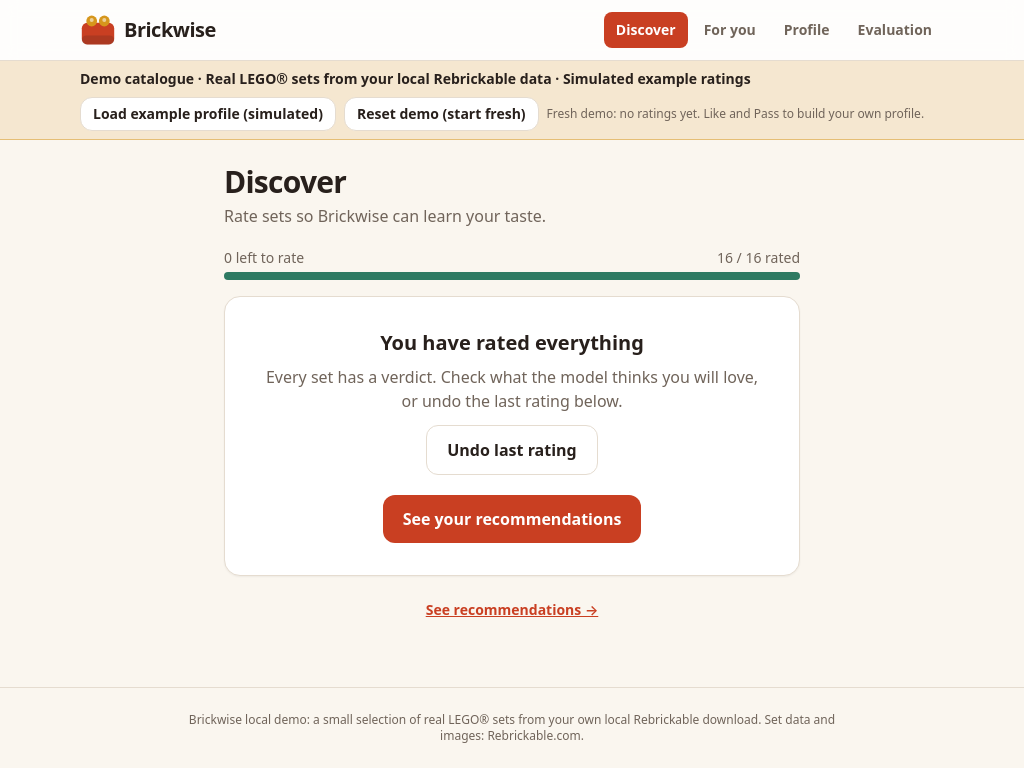
demo mode on, real local catalogue › describes the example profile as simulated and sizes the evaluation note from the server
The image size is (1024, 768).
Click the button "Load example profile (simulated)" at (208,114), box 80,97 -> 336,131
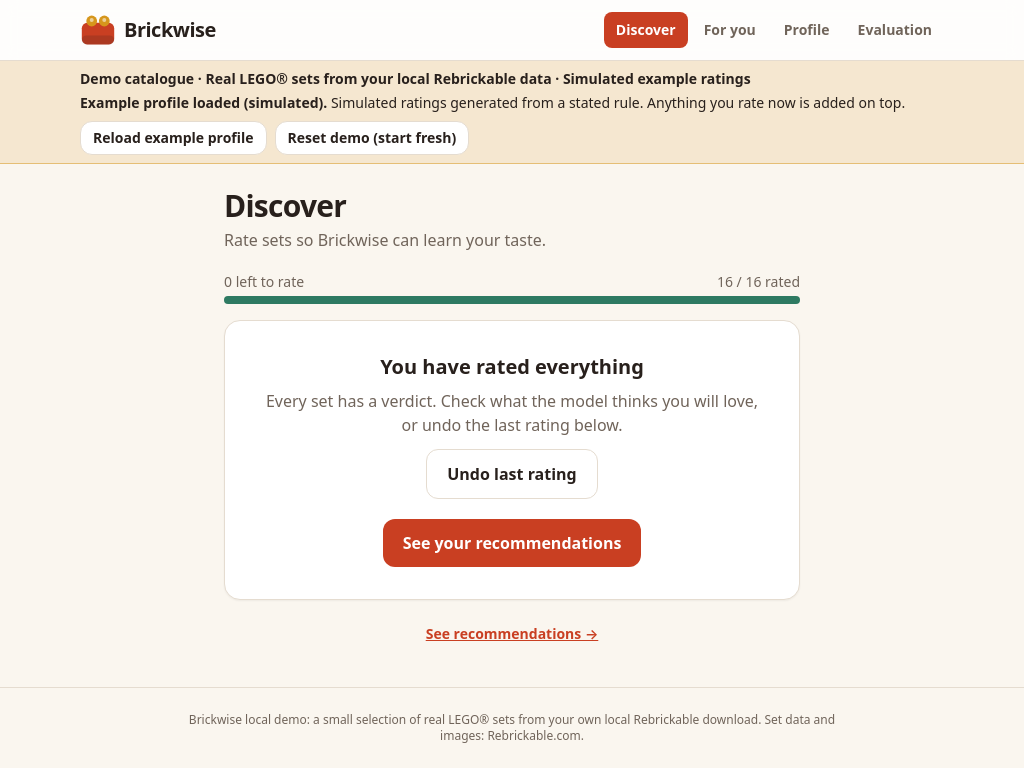
Now the element with test id "example-label" shows "Example profile loaded (simulated)", box 80,93 -> 327,112
Now the element with test id "example-label" shows "Simulated ratings generated from a stated rule.", box 331,93 -> 643,112
